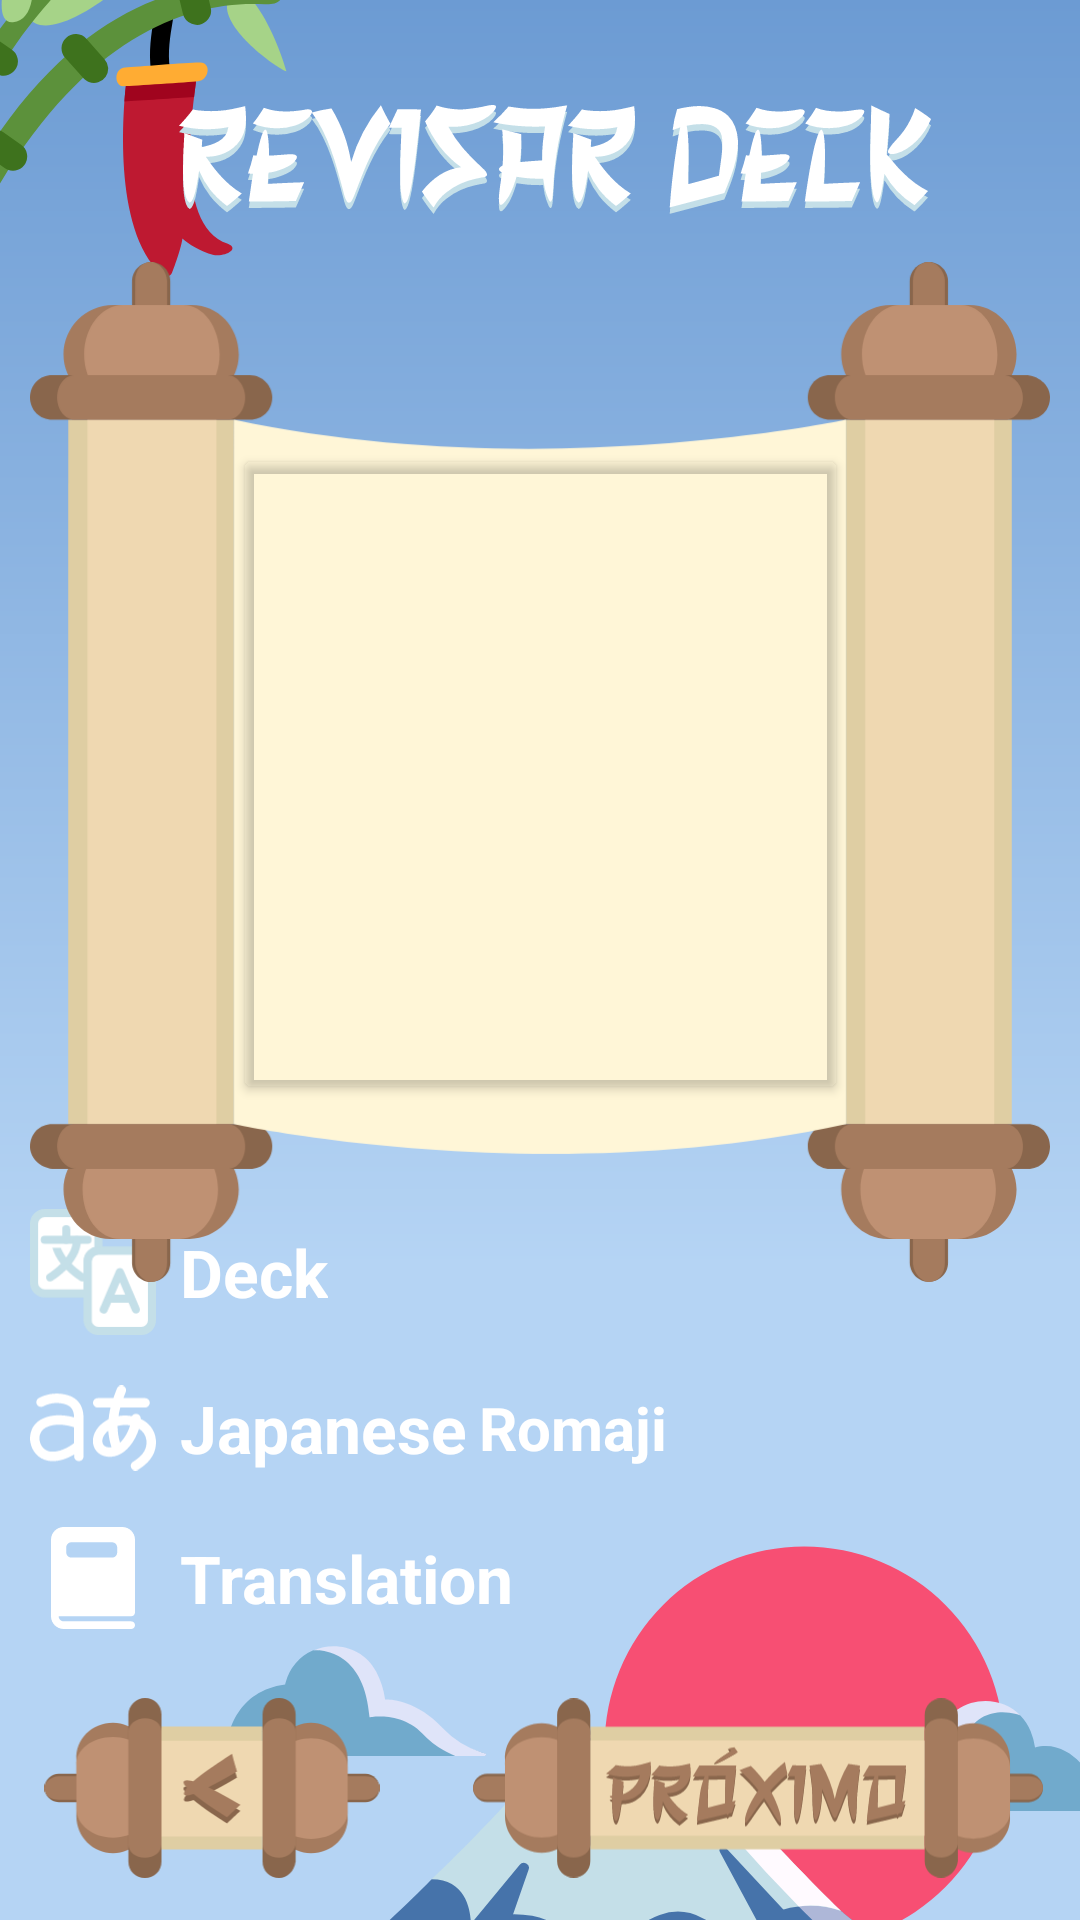

Icons on this 1080 × 1920 Android screen, each with the point to tap as (x=x, y=y):
back: (x=218, y=1788)
